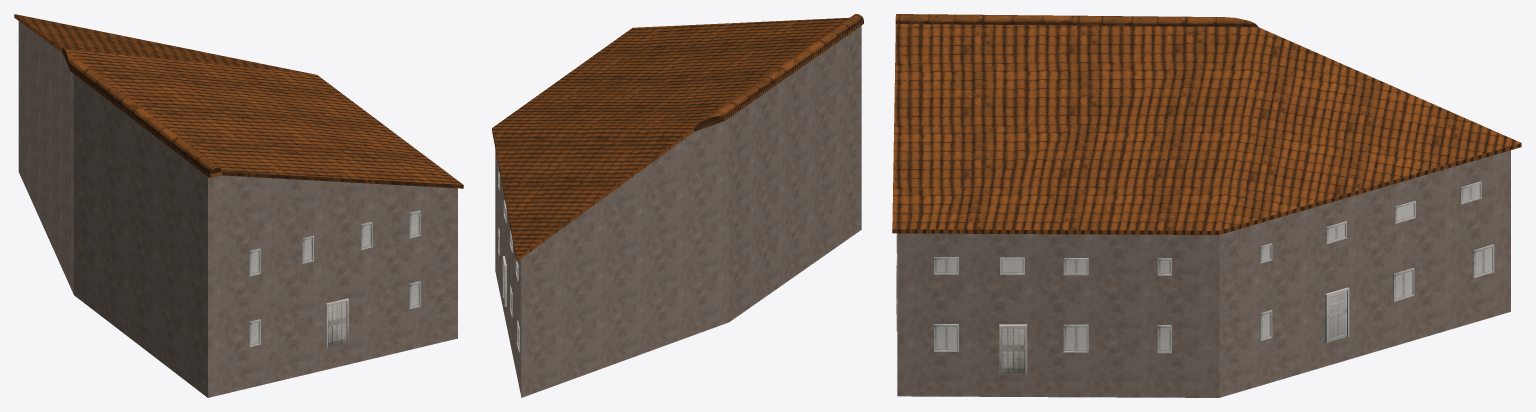
File: Casa_31.fbx
3 renders of one model, left to right at view 1: azimuth 30°, elevation 25°; view 2: azimuth 150°, elevation 25°; view 3: azimuth 270°, elevation 25°, orthographic. The views are drawn at different scales.
Visible parts, largest first — view 1: Casa_31; view 2: Casa_31; view 3: Casa_31.
Boxes of the visible parts, box(x1,y1,x2,y2) form: Casa_31: box(14, 14, 463, 397); Casa_31: box(492, 14, 863, 397); Casa_31: box(892, 14, 1521, 397).
Size of the model in its own units: 12.06 by 10.42 by 23.56.
